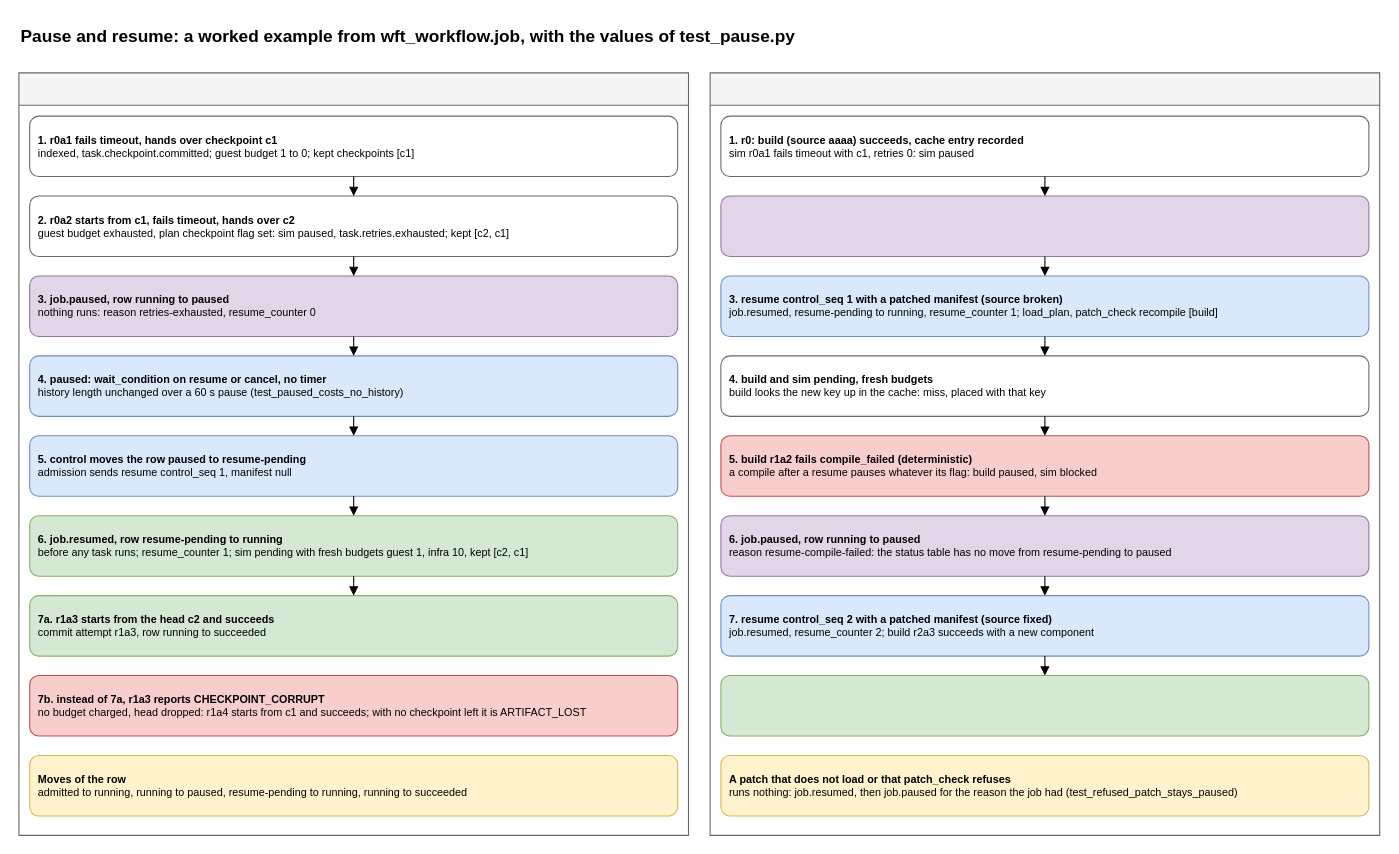
The diagram is 1399 pixels wide and 854 high, and some of its shapes have lost their labels. Each missing label, with the box of its shape:
2. job.paused, row running to paused reason retries-exhausted: (720, 195, 1369, 256)
8. sim r2a2 starts from c1 and reads the new component row running to succeeded: (720, 674, 1369, 736)
Patched resume: build then a checkpoint-capable sim, retries 0: (709, 72, 1380, 835)
Resume from the checkpoint head: one checkpoint-capable sim, retries 1: (18, 72, 688, 835)
